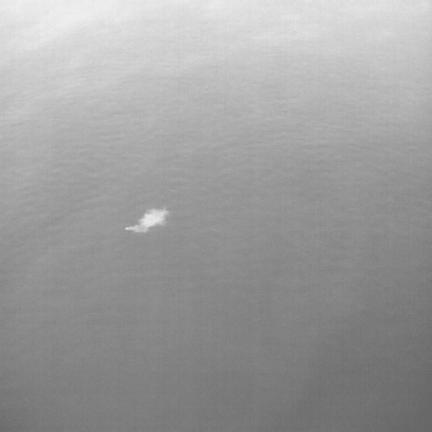flukeprints: (126, 208, 167, 233)
